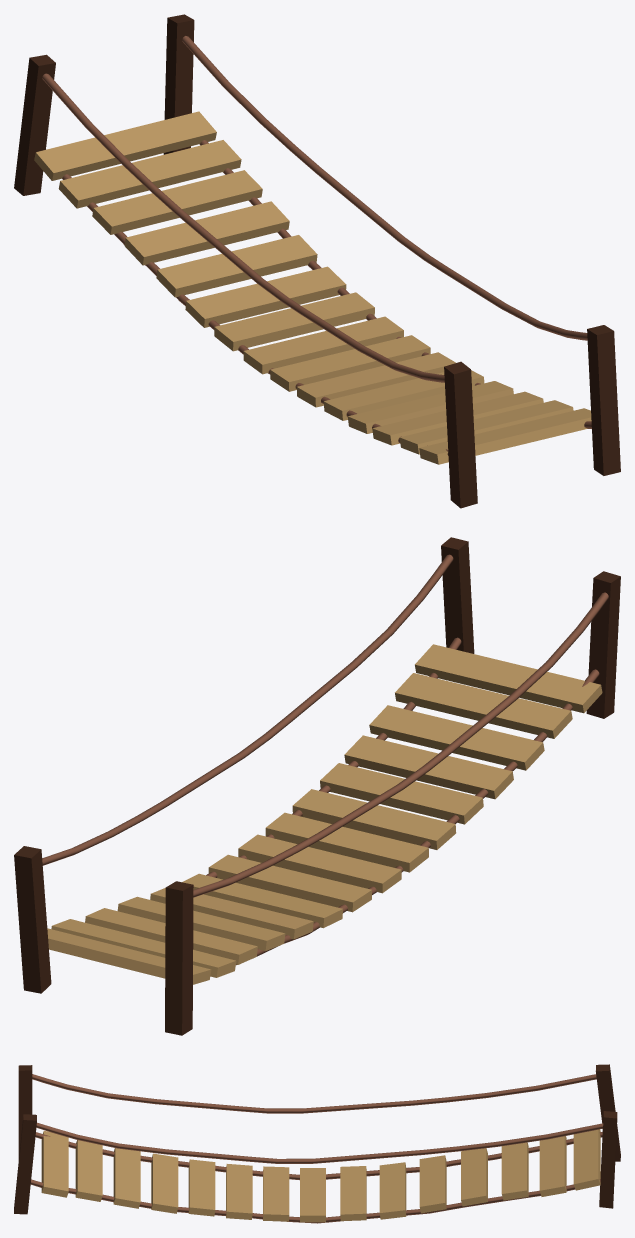
File: SM_Bridge.fbx
The picture shows the model from 3 angles, top to bottom: view 1: azimuth 30°, elevation 25°; view 2: azimuth 150°, elevation 25°; view 3: azimuth 270°, elevation 25°; orthographic projection. The views are drawn at different scales.
Parts seen in each view (by area): view 1: pCube32; view 2: pCube32; view 3: pCube32.
Part boxes in pixels (x1=…): pCube32: x1=14, y1=14, x2=620, y2=508; pCube32: x1=14, y1=537, x2=620, y2=1035; pCube32: x1=14, y1=1064, x2=620, y2=1223.
Bounding box in the file's own units: 8.98 × 8.13 × 39.85.
